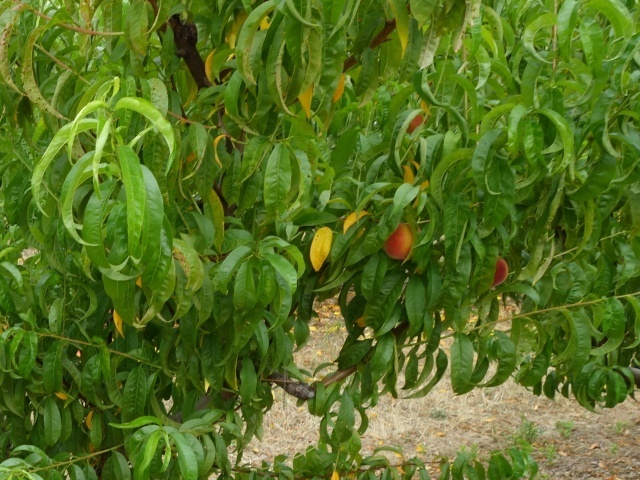peach: (379, 216, 423, 264), (485, 250, 513, 290), (405, 108, 429, 142)
